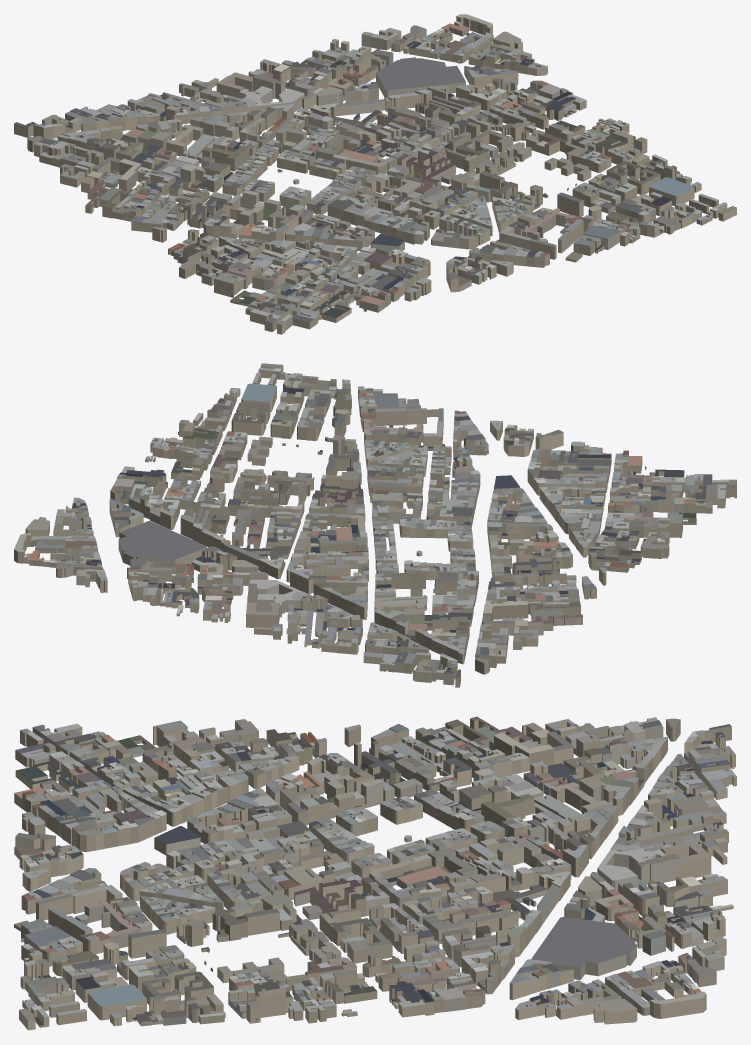
3 views of the same model, one above another, from view 1: azimuth 30°, elevation 25°; view 2: azimuth 150°, elevation 25°; view 3: azimuth 270°, elevation 25° (orthographic). The views are drawn at different scales.
Parts seen in each view (by area): view 1: tuile; view 2: tuile; view 3: tuile.
Part boxes in pixels (box(x1,y1,x2,y2)): tuile: box(14, 14, 736, 334); tuile: box(14, 363, 736, 687); tuile: box(14, 716, 736, 1030).
Bounding box in the file's own units: 1061 × 57.4 × 1038.
